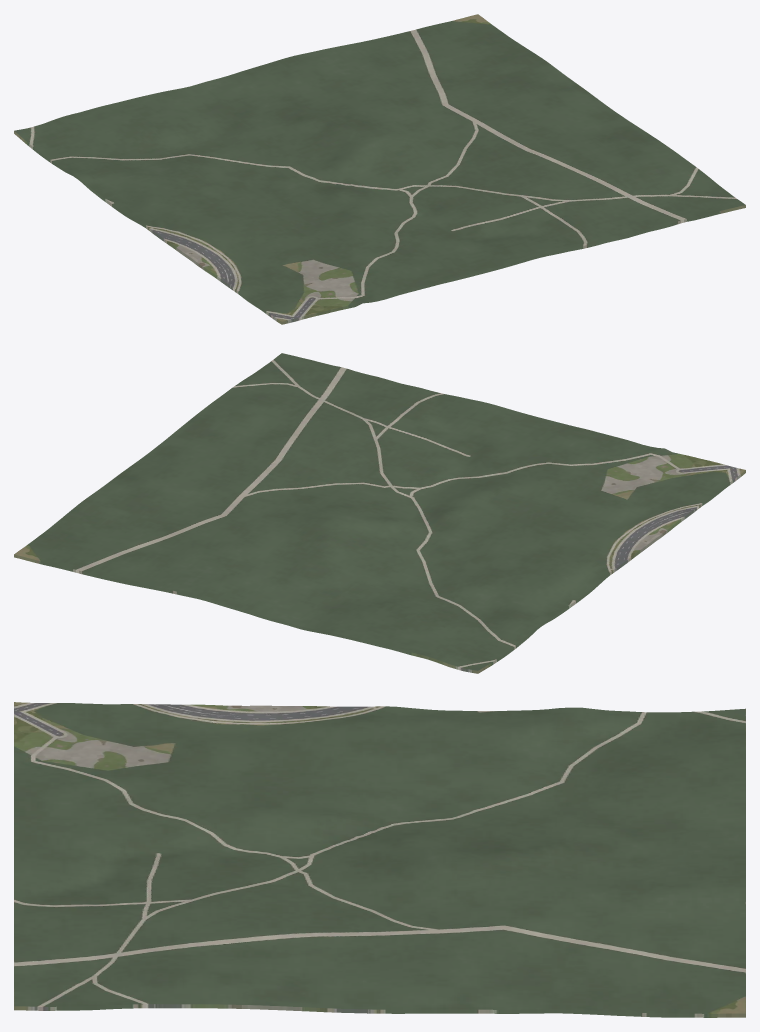
The picture shows the model from 3 angles, top to bottom: view 1: azimuth 30°, elevation 25°; view 2: azimuth 150°, elevation 25°; view 3: azimuth 270°, elevation 25°; orthographic projection. The views are drawn at different scales.
Visible parts, largest first — view 1: terrain; view 2: terrain; view 3: terrain.
Boxes of the visible parts, bbox=[...] form: terrain: bbox=[14, 14, 745, 324]; terrain: bbox=[14, 353, 745, 673]; terrain: bbox=[14, 702, 745, 1017].
Bounding box in the file's own units: 500 × 18.19 × 500.
Materials: 1 (1 with a texture image).
